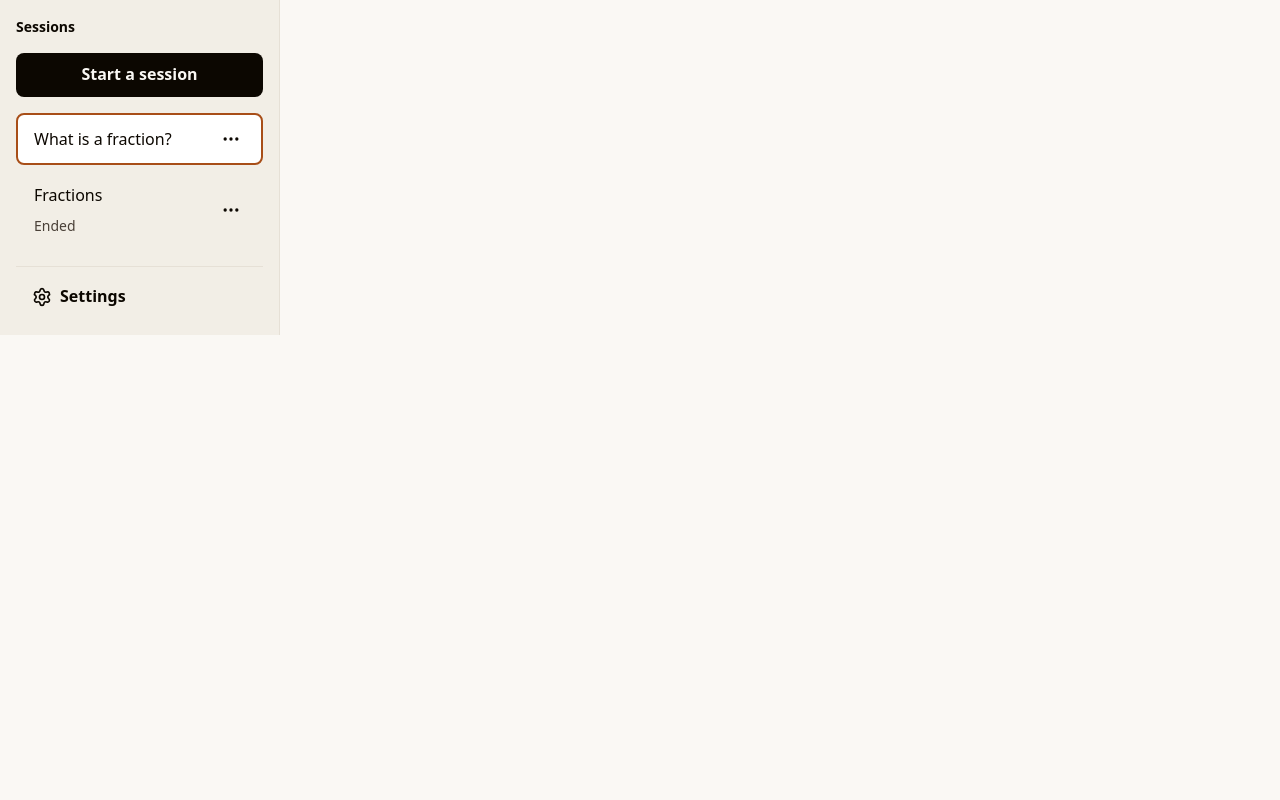
a failed save keeps the dialog open and says why
Click the button named "Actions for Fractions" at (231, 210), box [209,188,253,232]
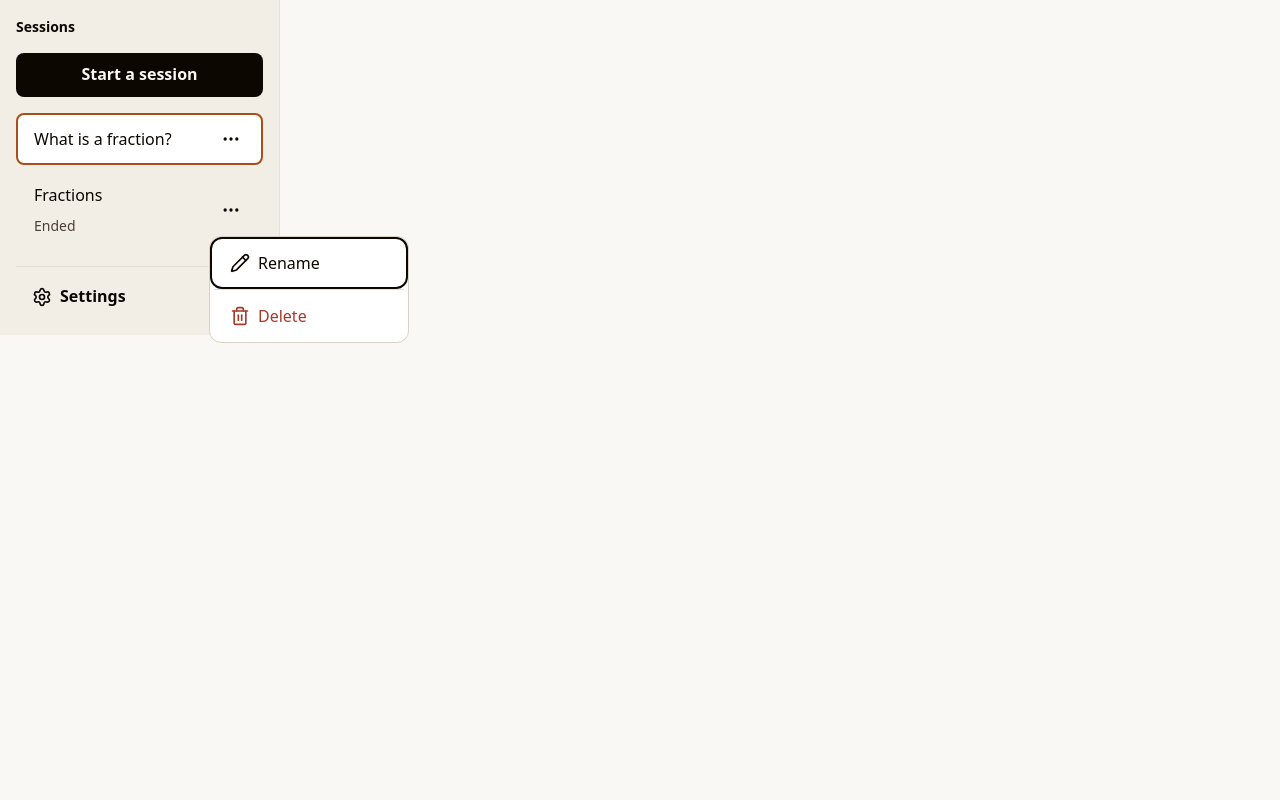
Click the menu item "Rename" at (309, 262), box [214,240,404,284]
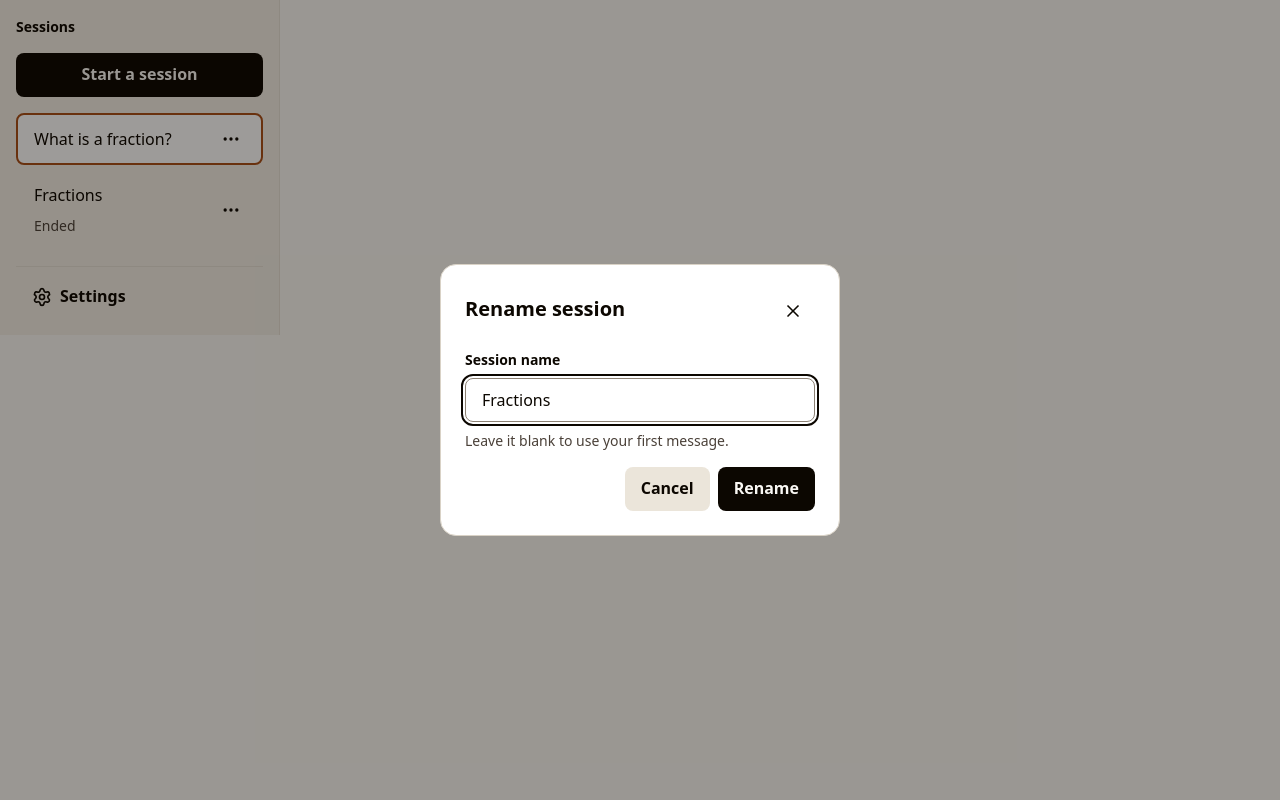
Click the button "Rename" at (766, 489), box [718,467,815,511]
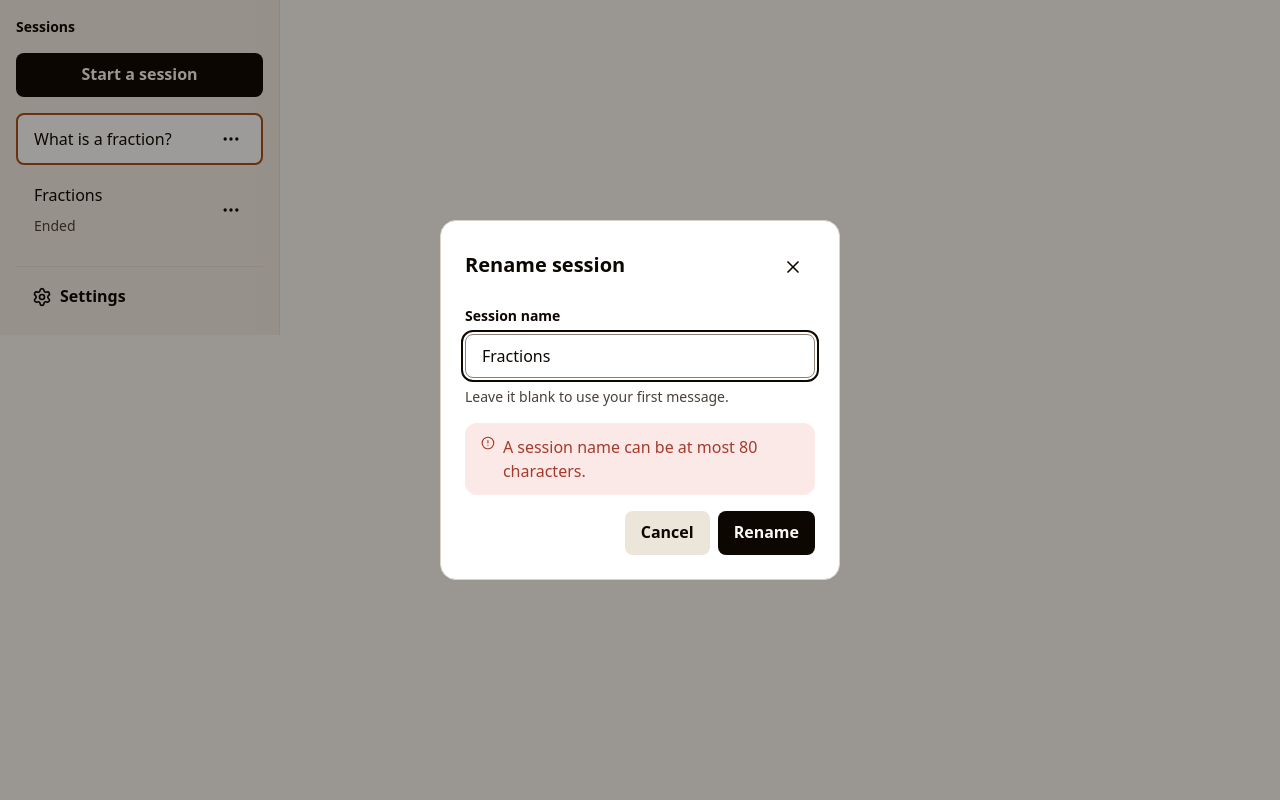
Result: the dialog "Rename session" is shown at [440,220,840,580]
Result: the message shows "at most 80 characters" at [503,436,757,482]
